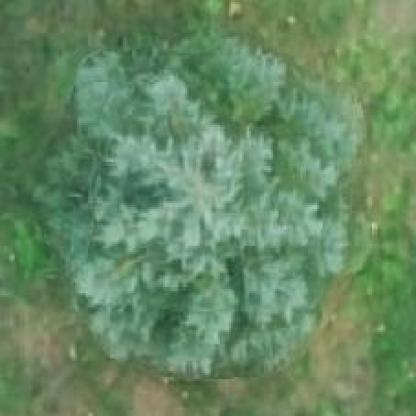Coniferous Tree: (39, 21, 373, 379)
